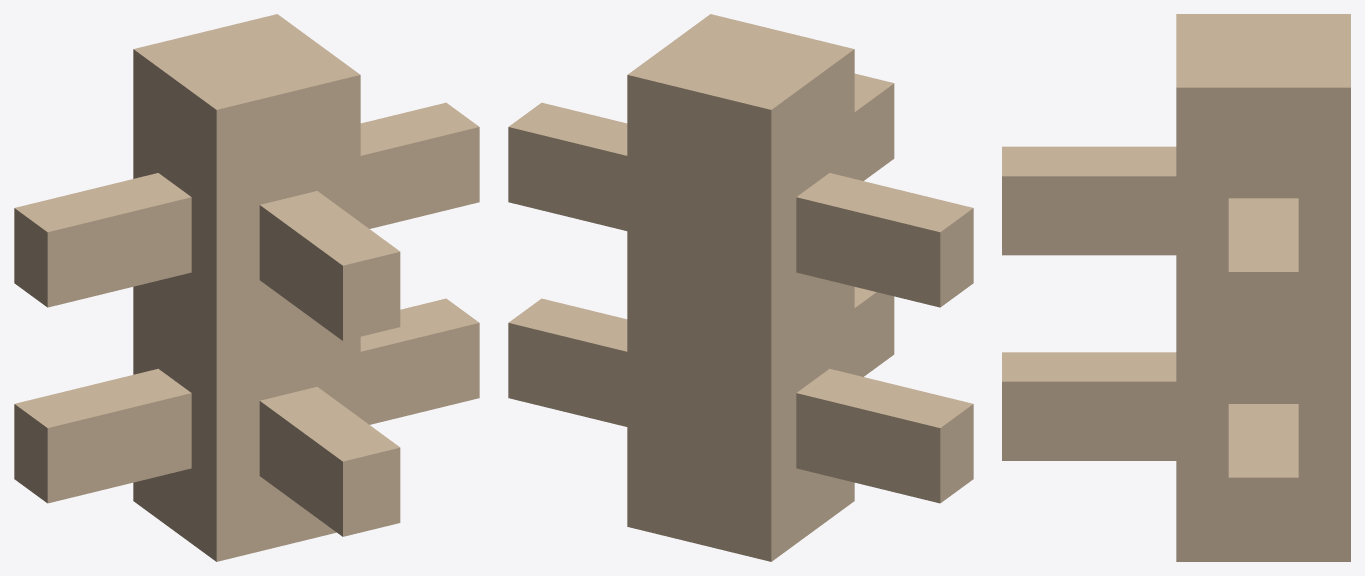
Rendered from FenceMiddleCornerMesh.gltf.
The picture shows the model from 3 angles, left to right: view 1: azimuth 30°, elevation 25°; view 2: azimuth 150°, elevation 25°; view 3: azimuth 270°, elevation 25°; orthographic projection. The views are drawn at different scales.
Parts seen in each view (by area): view 1: FenceMiddleCorner; view 2: FenceMiddleCorner; view 3: FenceMiddleCorner.
Part boxes in pixels (bbox=[...]): FenceMiddleCorner: bbox=[14, 14, 479, 561]; FenceMiddleCorner: bbox=[508, 14, 973, 561]; FenceMiddleCorner: bbox=[1002, 14, 1350, 561].
Size of the model in its own units: 3 by 3 by 2.
